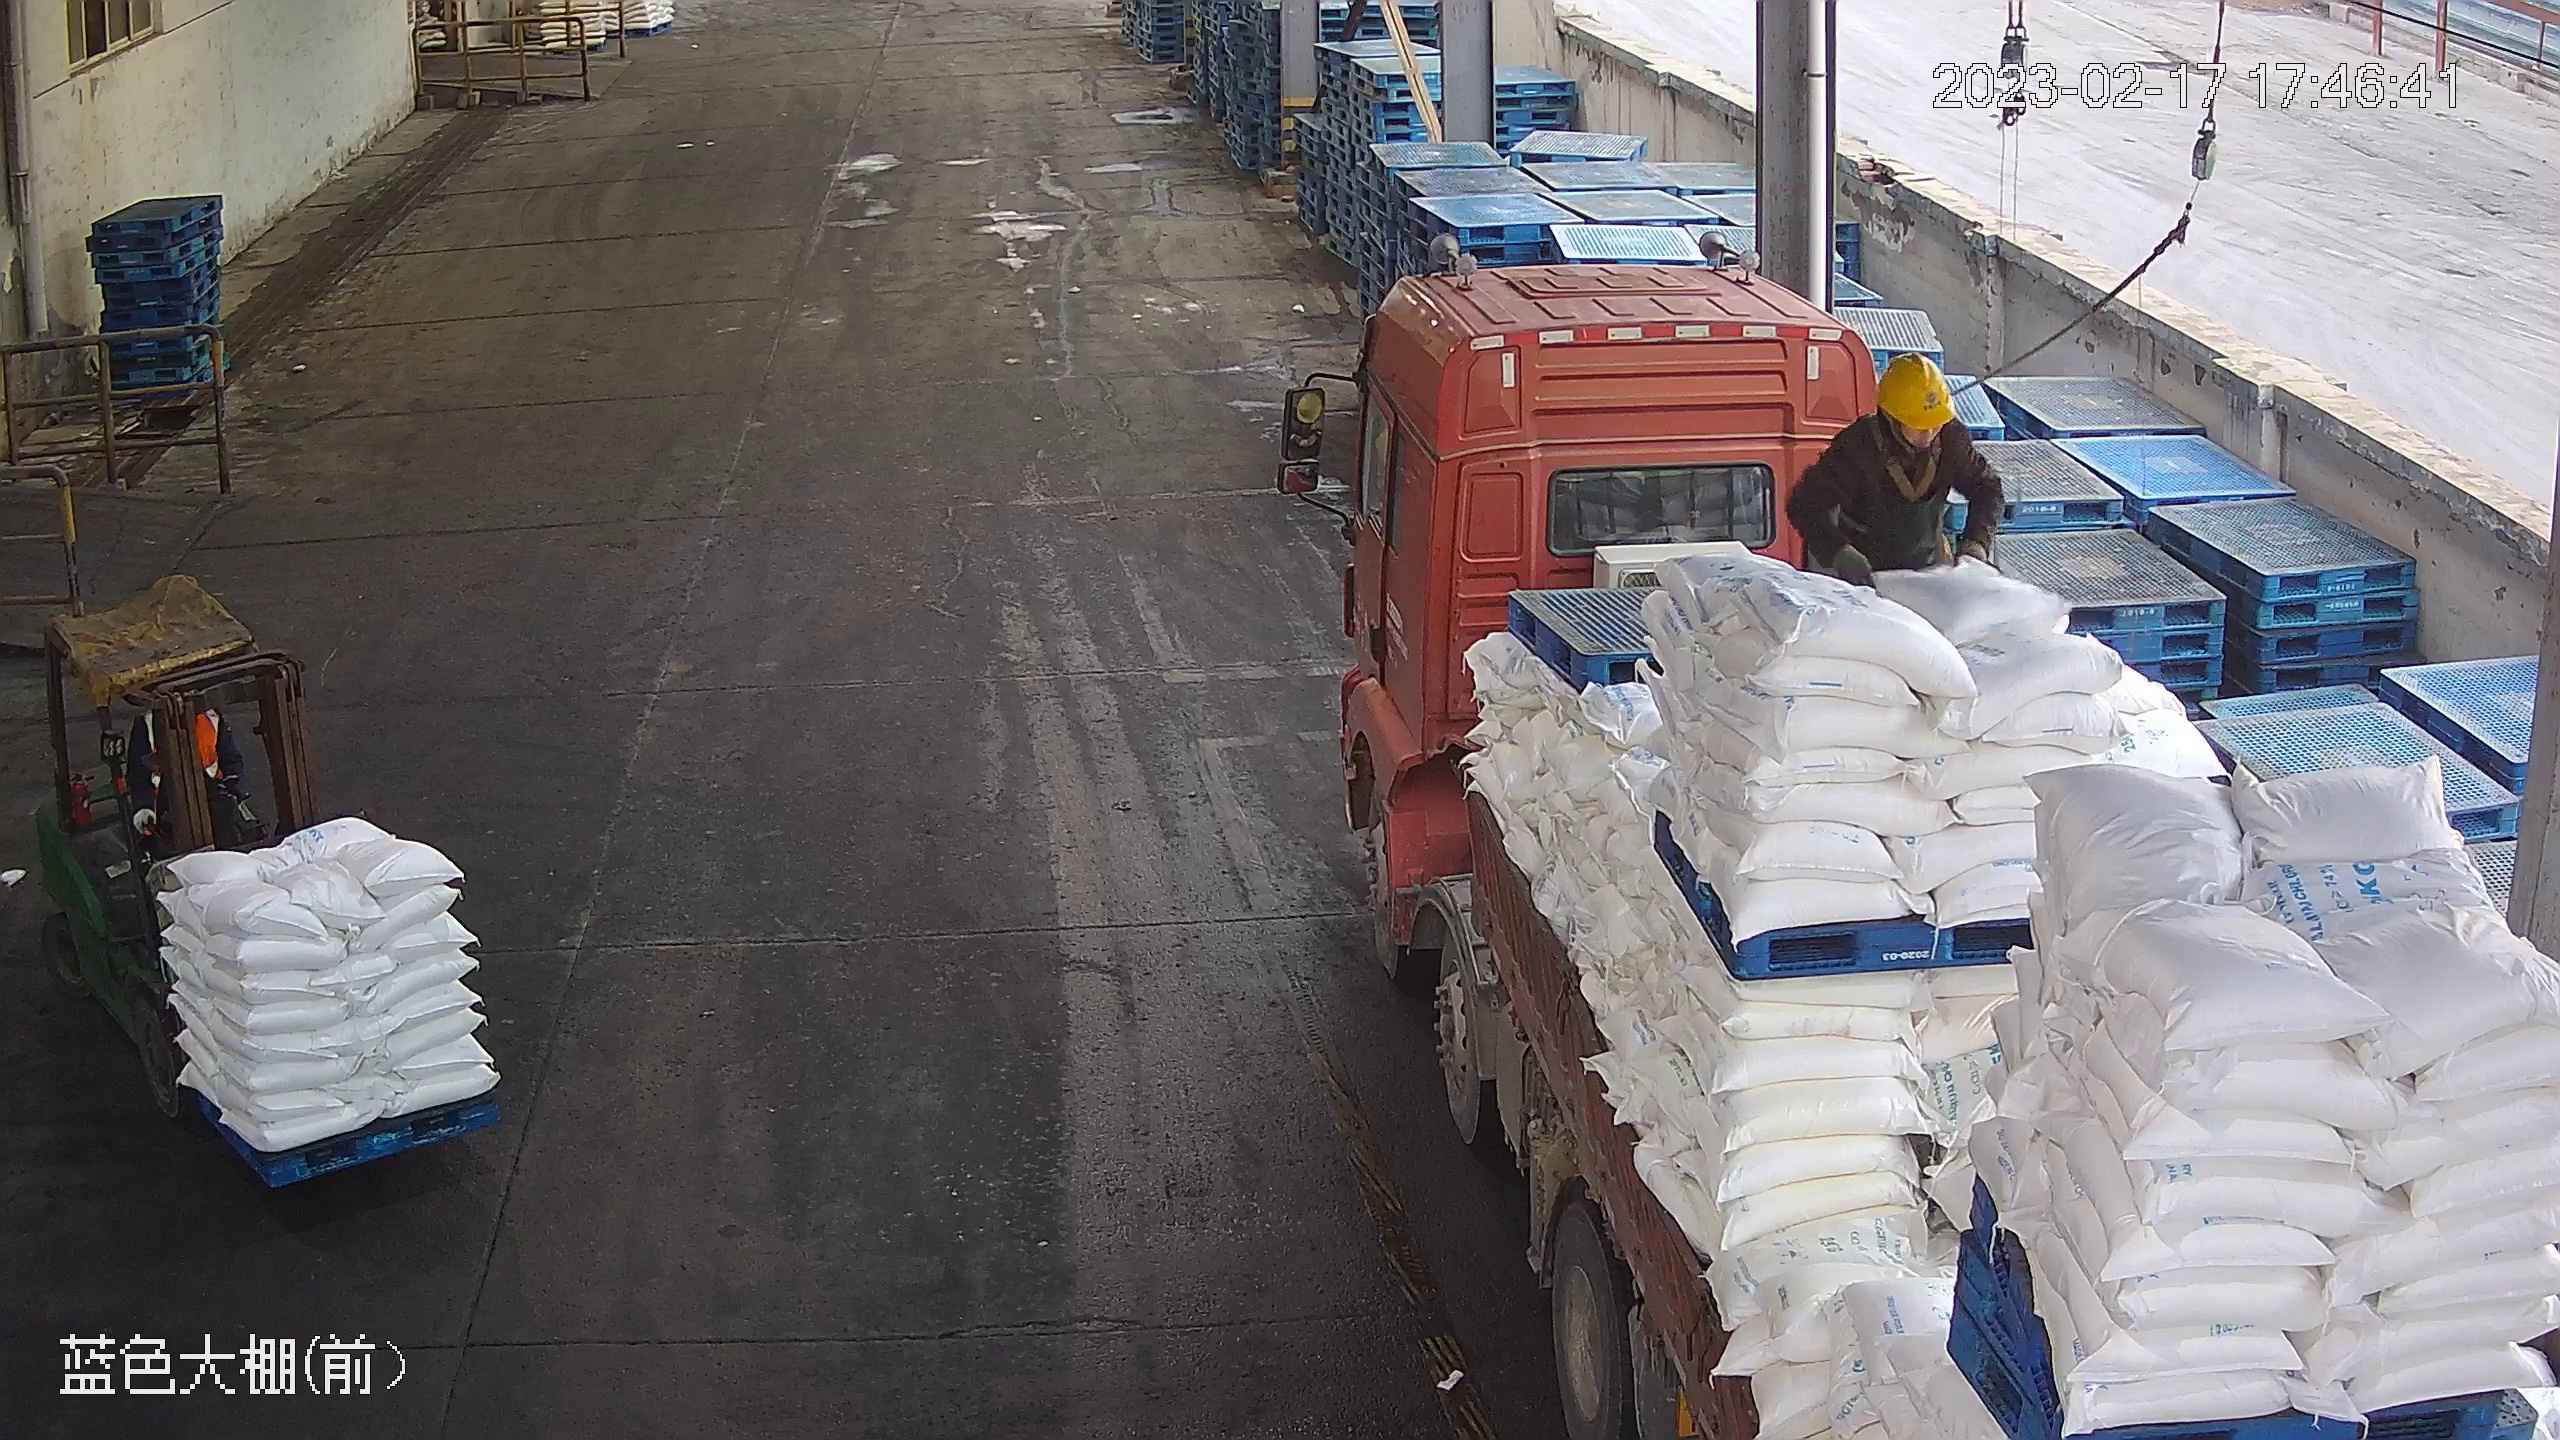belt: (1870, 435, 1951, 505)
head: (1840, 351, 1975, 484)
helmet: (1875, 353, 1956, 436)
truck: (1271, 198, 2560, 1440)
